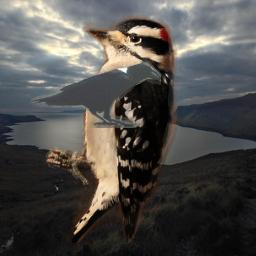Crow: (30, 61, 161, 128)
Woodpecker: (43, 12, 178, 243)
